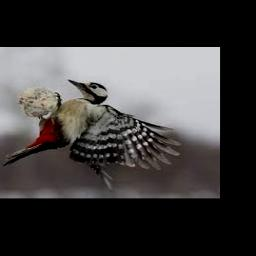Woodpecker: (2, 79, 181, 188)
